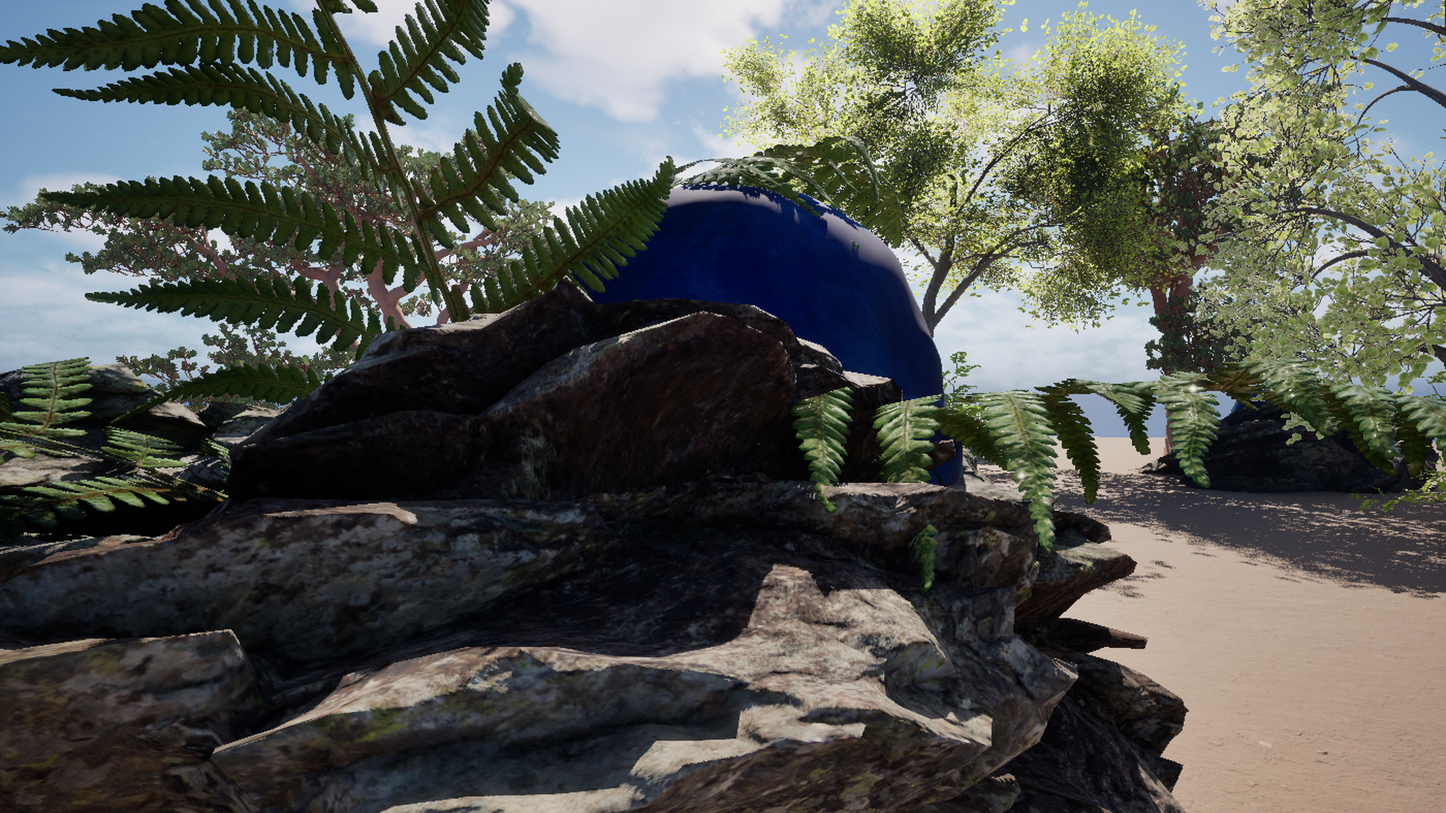Piplup: (241, 0, 1061, 813)
